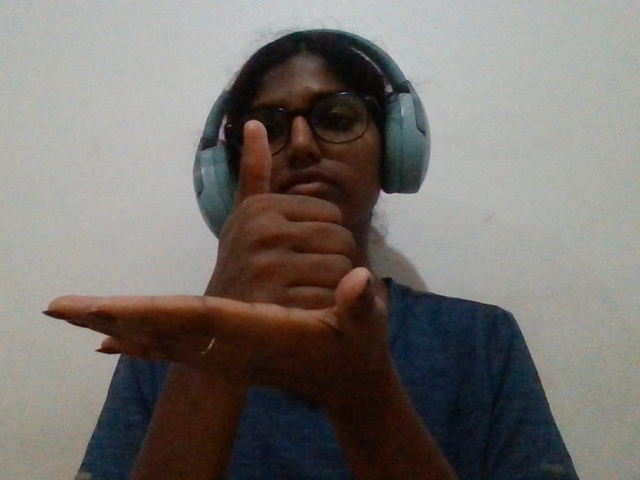Help: (29, 91, 499, 440)
